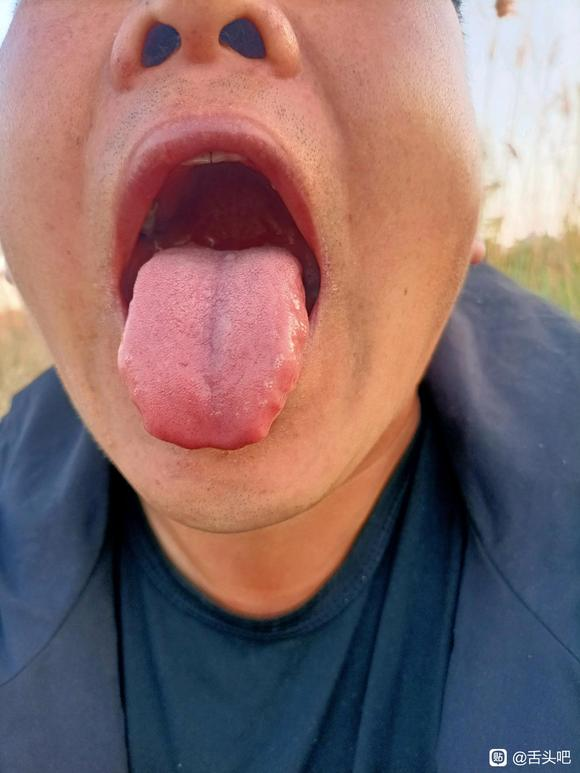baitaishe: (117, 243, 310, 450)
chihenshe: (236, 318, 310, 449), (117, 366, 149, 433)
hongshe: (117, 243, 310, 450)
